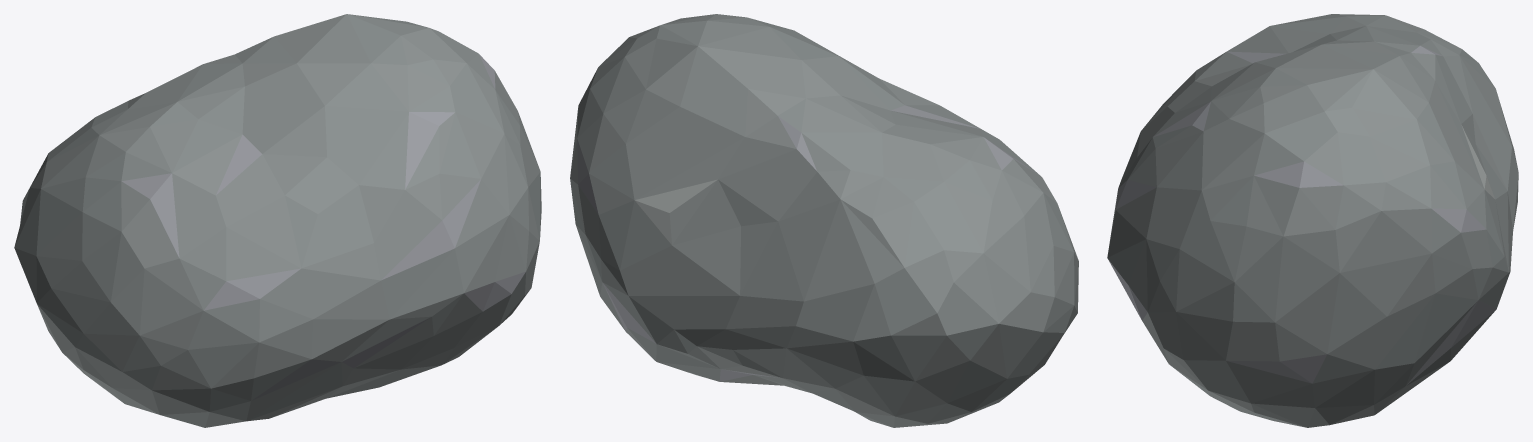
The model's file is mesh_rock_small_06.fbx.
3 views of the same model, side by side, from view 1: azimuth 30°, elevation 25°; view 2: azimuth 150°, elevation 25°; view 3: azimuth 270°, elevation 25° (orthographic). The views are drawn at different scales.
Visible parts, largest first — view 1: mesh_rock_small_06_LOD0; view 2: mesh_rock_small_06_LOD0; view 3: mesh_rock_small_06_LOD0.
Boxes of the visible parts, x1,y1,x2,y2 form: mesh_rock_small_06_LOD0: (14,14,541,427); mesh_rock_small_06_LOD0: (570,14,1078,427); mesh_rock_small_06_LOD0: (1107,14,1518,427).
Size of what is drawn, in the model's own units: 1.07 by 0.735 by 0.7972.
